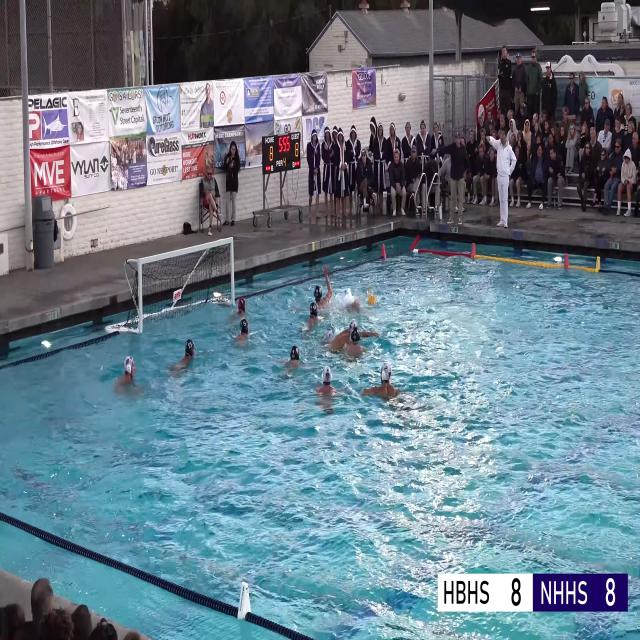ball: (368, 294, 376, 306)
